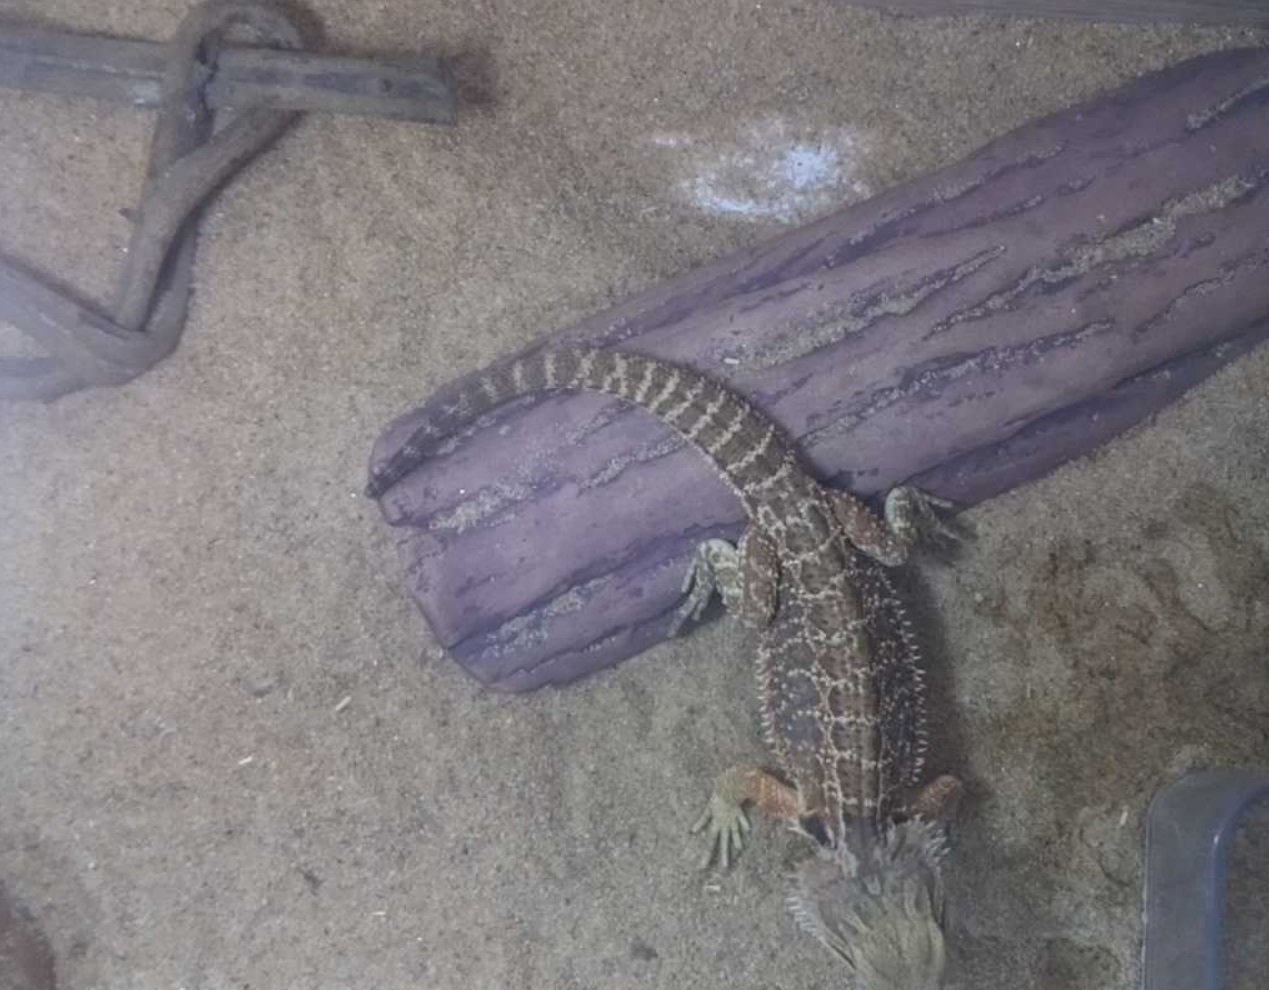bearded: (364, 341, 972, 990)
